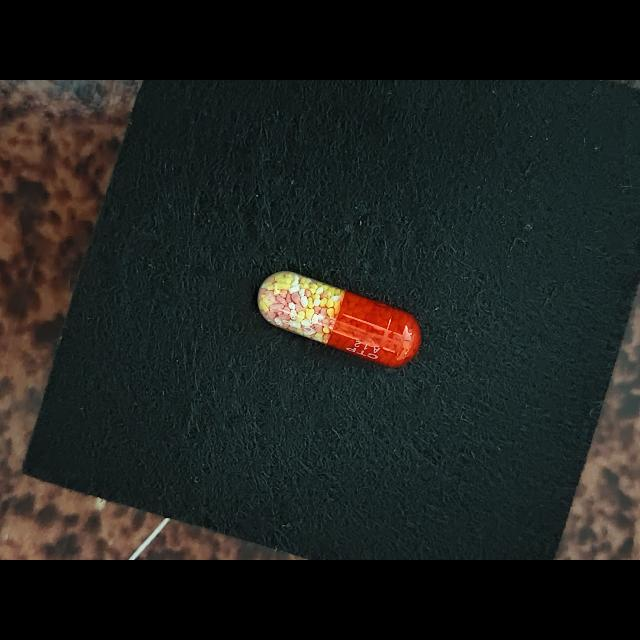Intact Capsule: (257, 271, 421, 367)
